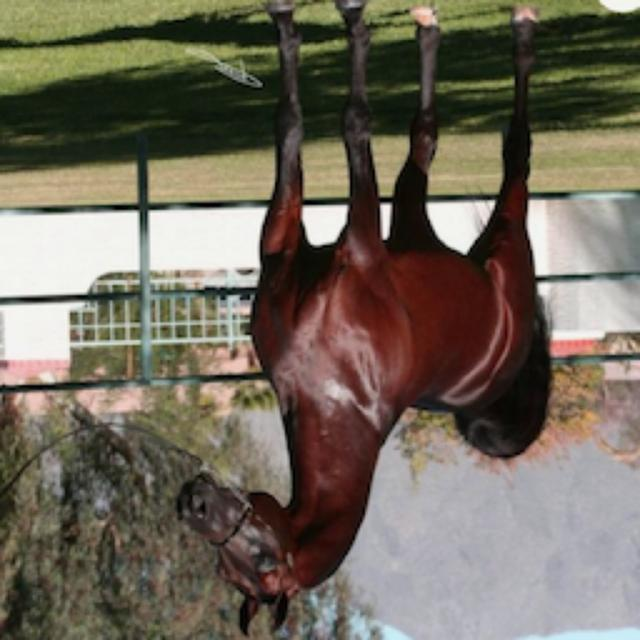Horse: (168, 2, 562, 640)
